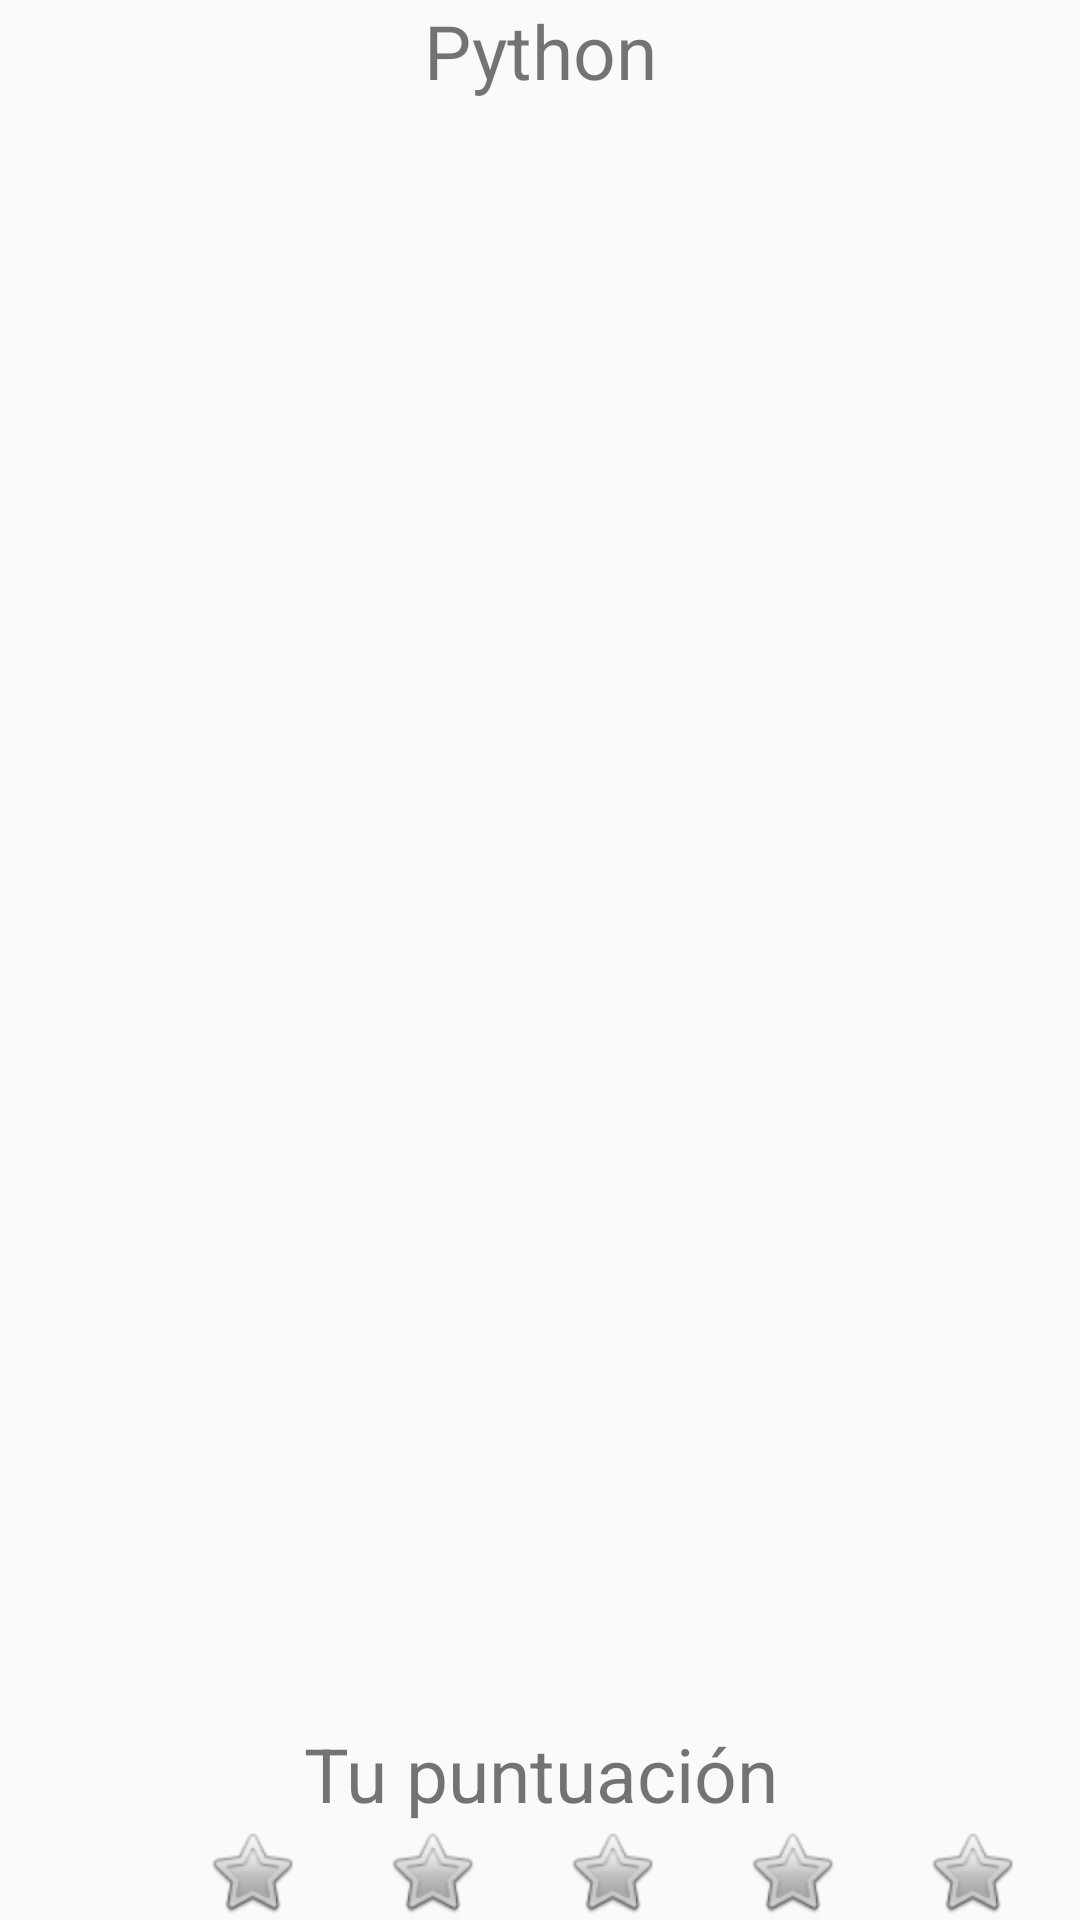

Icon click points for this 1080px×1920px phone screenshot, format point (x, y):
se muestra la cuarta estrella: point (793, 1873)
se muestra la primer estrella: point (253, 1873)
se muestra la quinta estrella: point (973, 1873)
se muestra la segunda estrella: point (433, 1873)
se muestra la tercer estrella: point (613, 1873)
